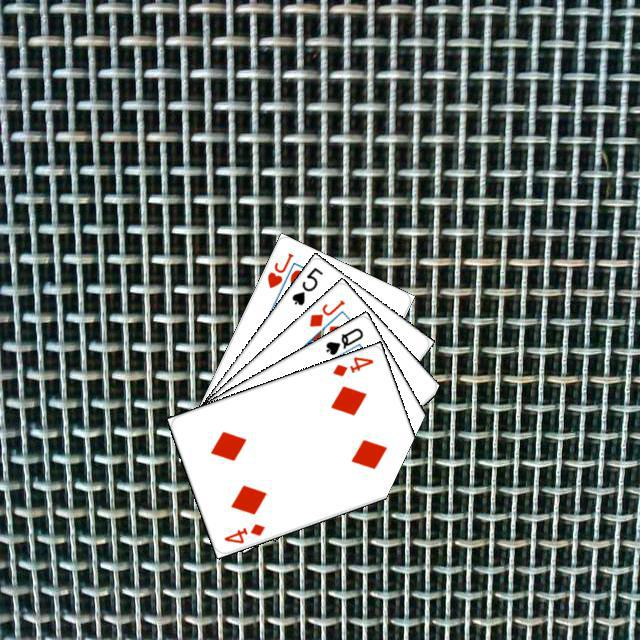4d: (219, 518, 267, 545), (328, 352, 375, 378)
5s: (287, 262, 325, 307)
Jd: (304, 295, 347, 329)
Jh: (262, 248, 295, 290)
Qs: (320, 323, 365, 357)
